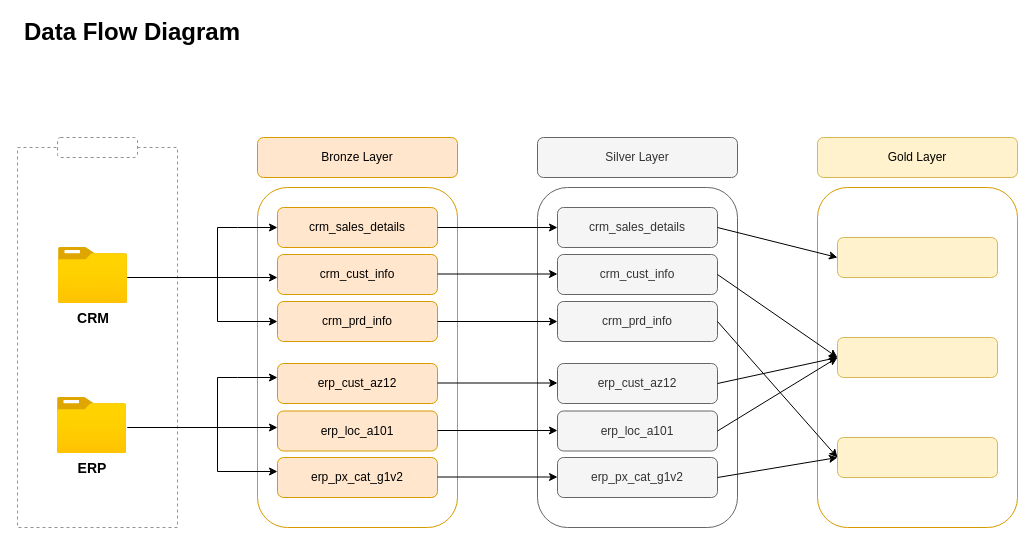
Image size: 1035x545. Some labels were removed from this diagram. The shapes that lost their labels are listed below. From the top down, each one's centre as x and y in pixels, then its label:
At (97,147): "Source".
At (917,257): "fact_sales".
At (917,357): "dim_customers".
At (917,457): "dim_product".
